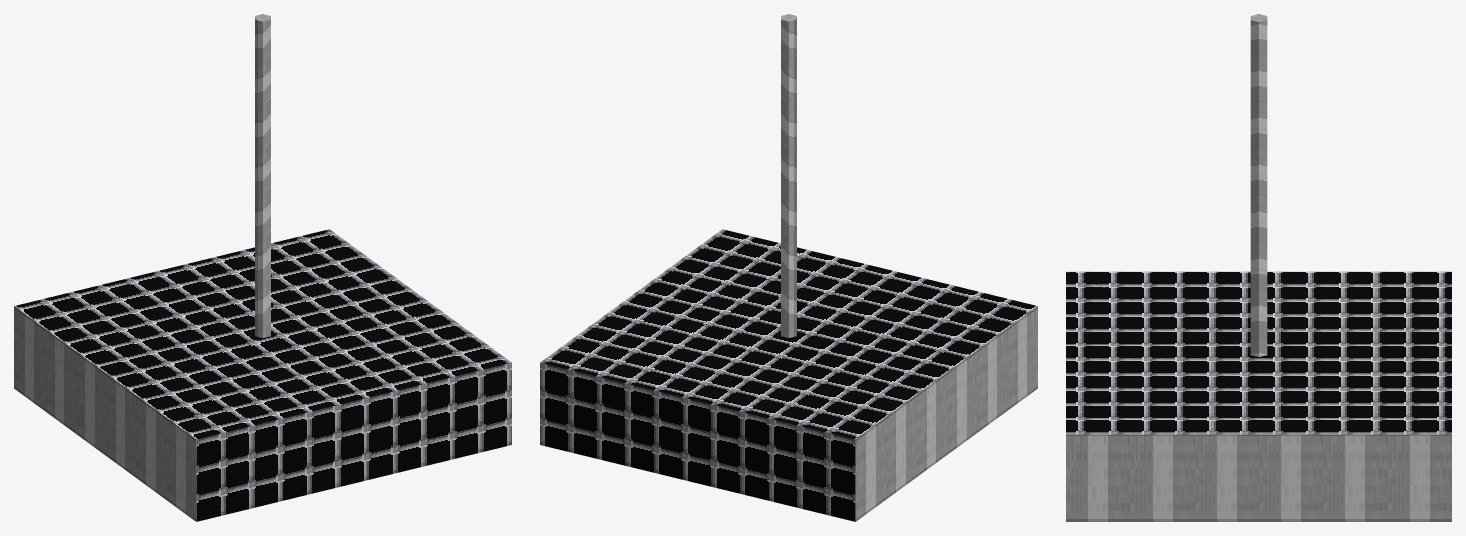
The model's file is km2_ami_bou.obj.
The picture shows the model from 3 angles, left to right: view 1: azimuth 30°, elevation 25°; view 2: azimuth 150°, elevation 25°; view 3: azimuth 270°, elevation 25°; orthographic projection. The views are drawn at different scales.
Parts seen in each view (by area): view 1: world_root; view 2: world_root; view 3: world_root.
Part boxes in pixels (x1=…): world_root: x1=14, y1=14, x2=511, y2=521; world_root: x1=540, y1=14, x2=1037, y2=521; world_root: x1=1066, y1=14, x2=1451, y2=521.
Bounding box in the file's own units: 75 × 90.62 × 75.
